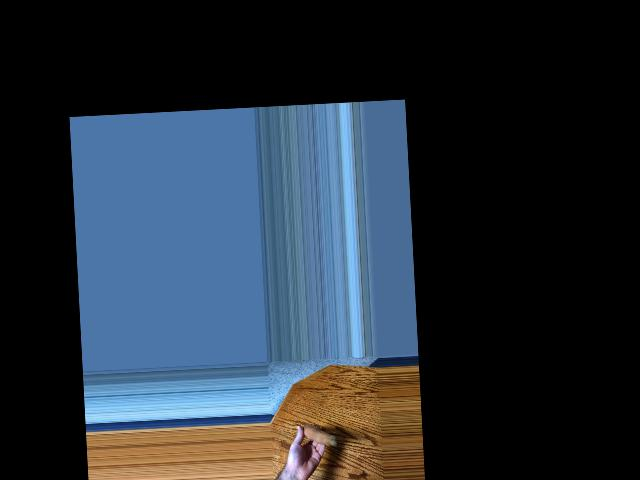sweet_potato: (300, 423, 337, 449)
